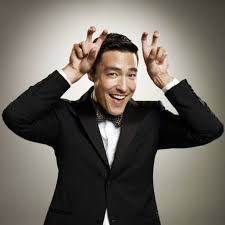asian_male: (96, 39, 140, 118)
